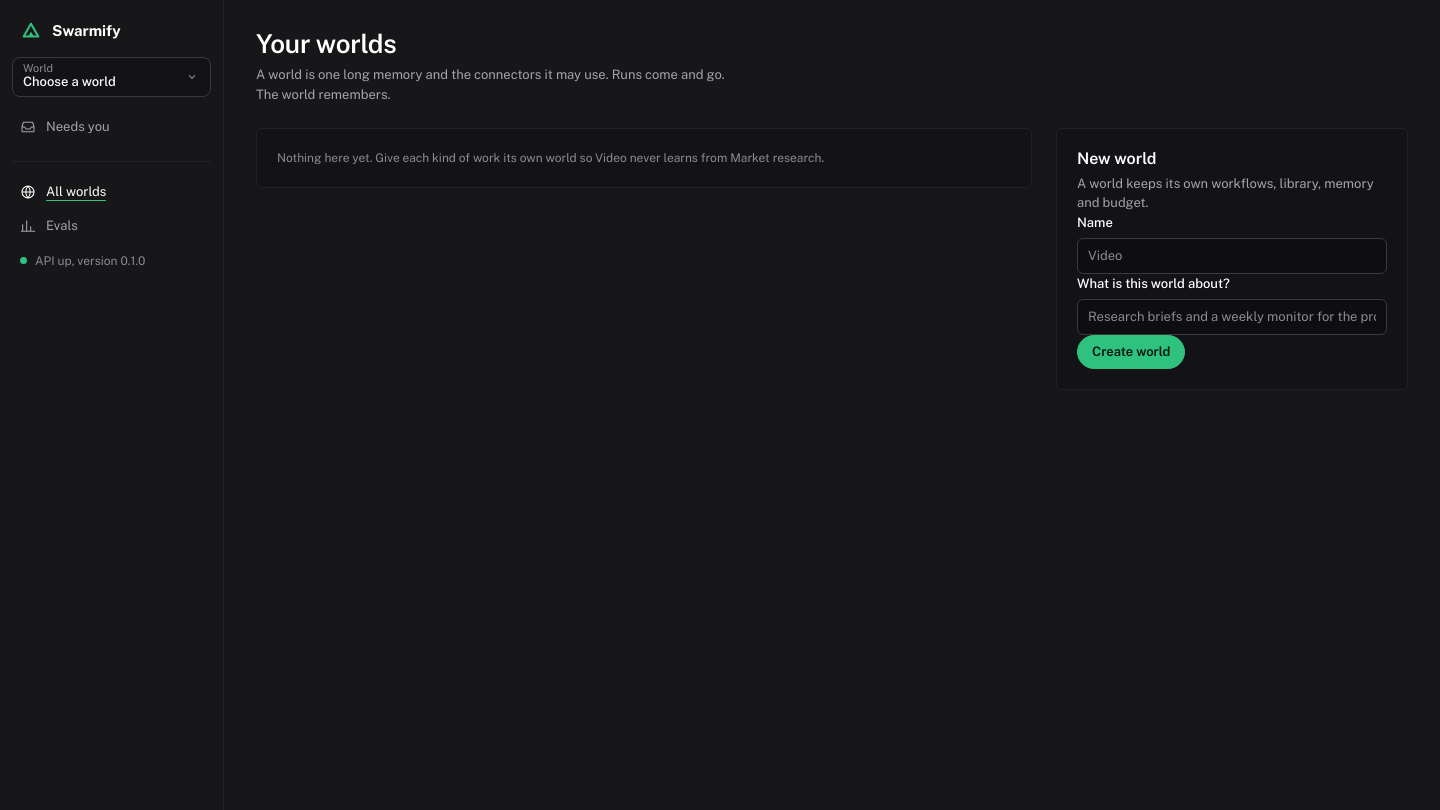
Test: creating a world posts name and purpose and opens the new world
Type "  Video " into the field labelled "Name" at [1232, 256], box [1077,238,1387,274]
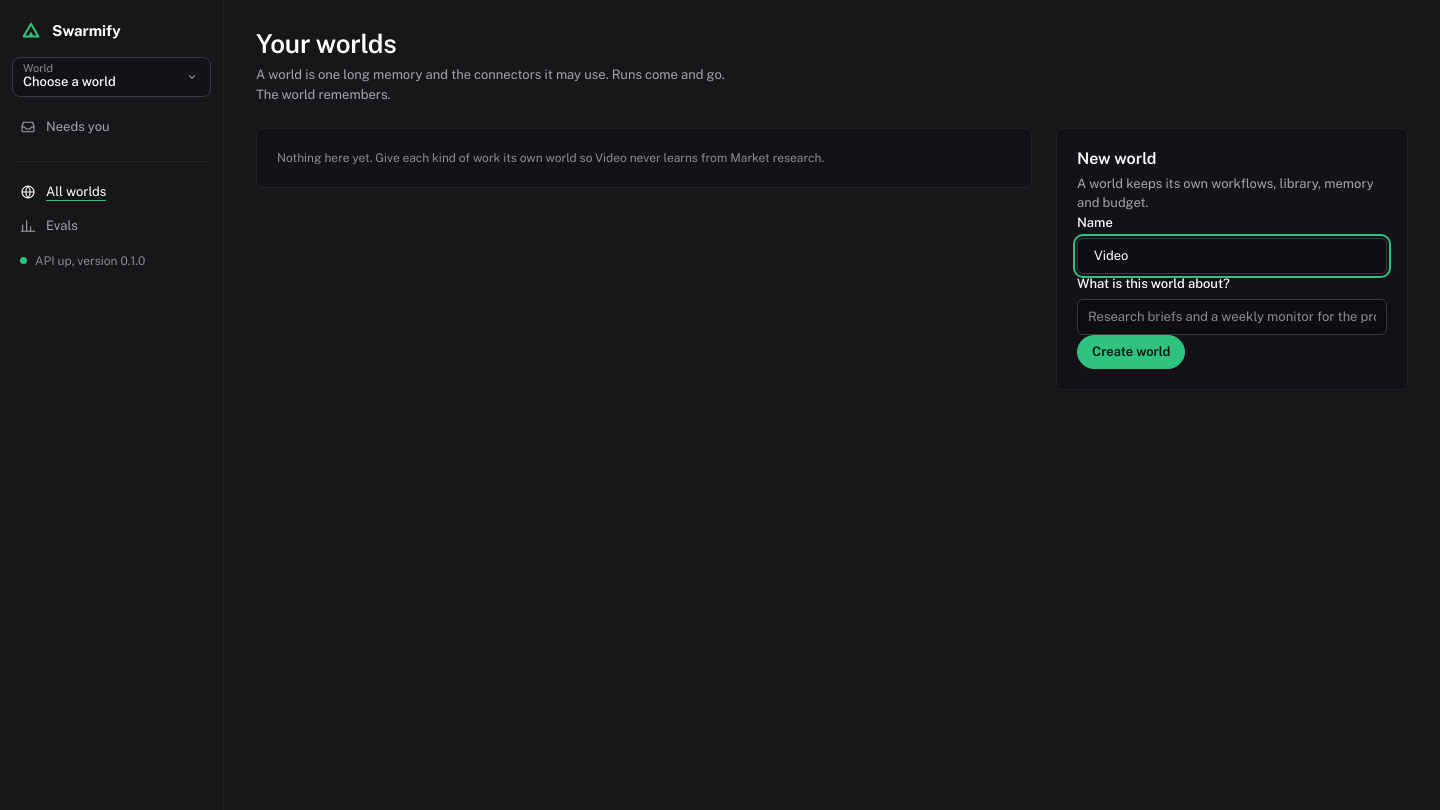
Type "Weekly shorts." into the field labelled "What is this world about?" at [1232, 317], box [1077,300,1387,335]
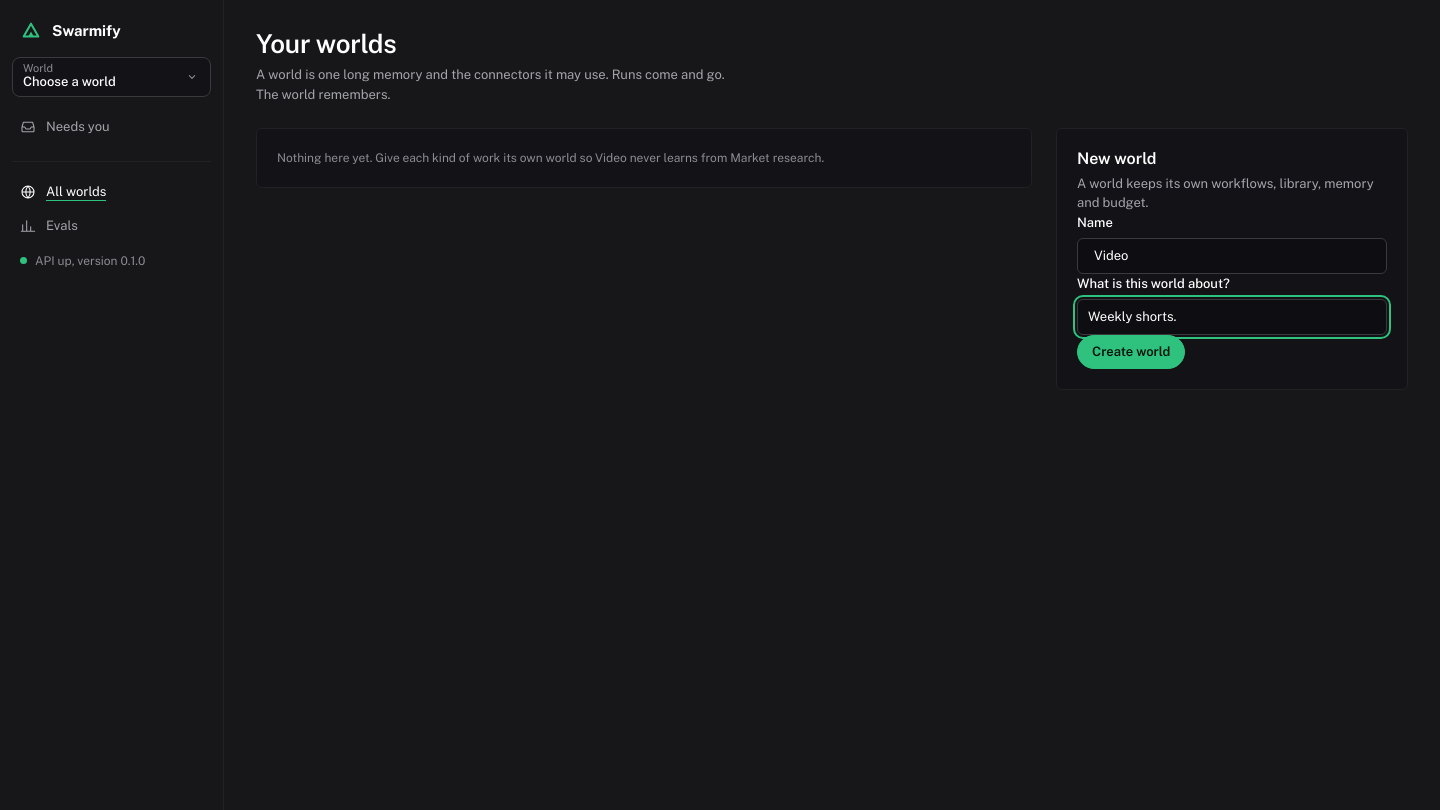
Click the button "Create world" at [1131, 352], box [1077,335,1185,369]
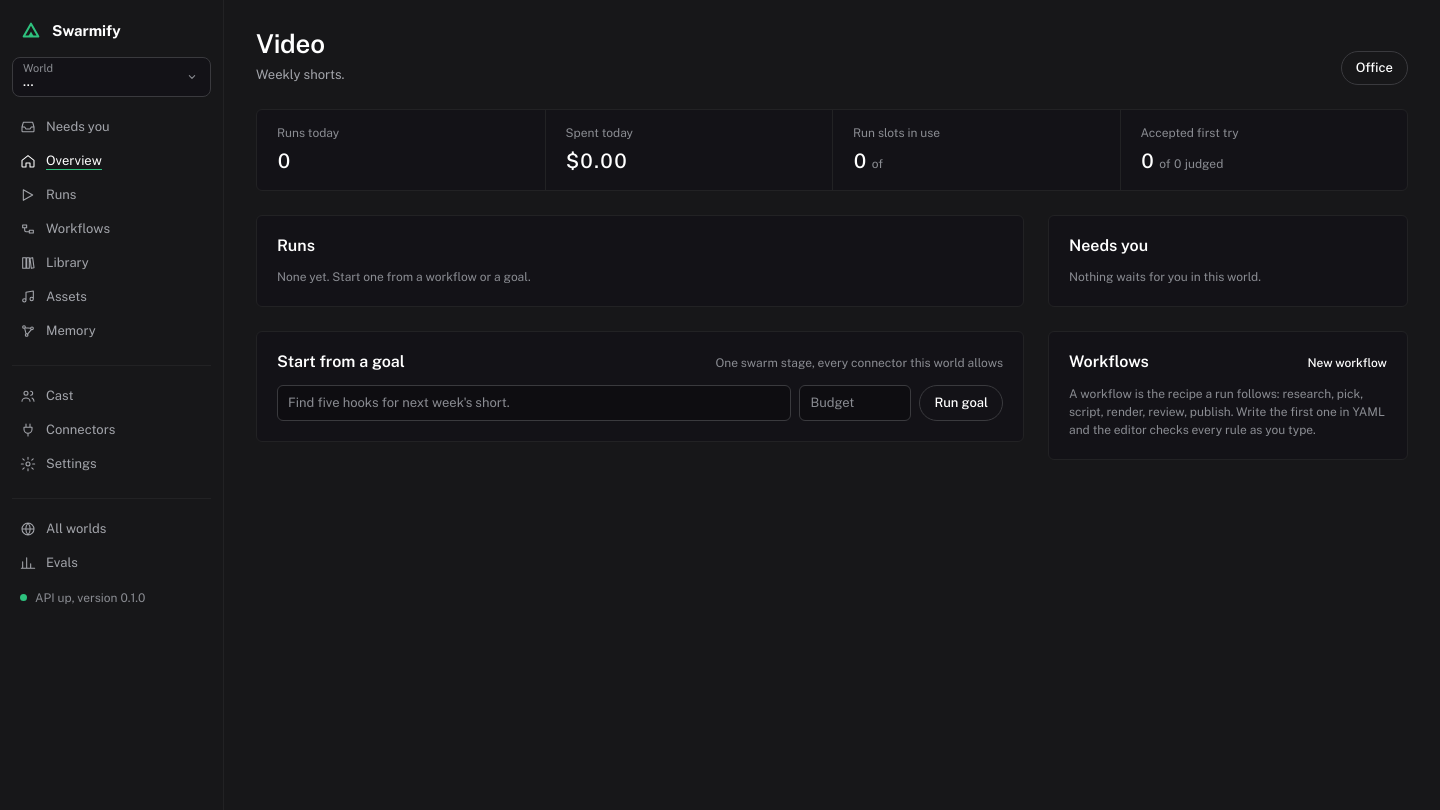
expect the heading "Video" is shown: met, box [256,28,325,59]
